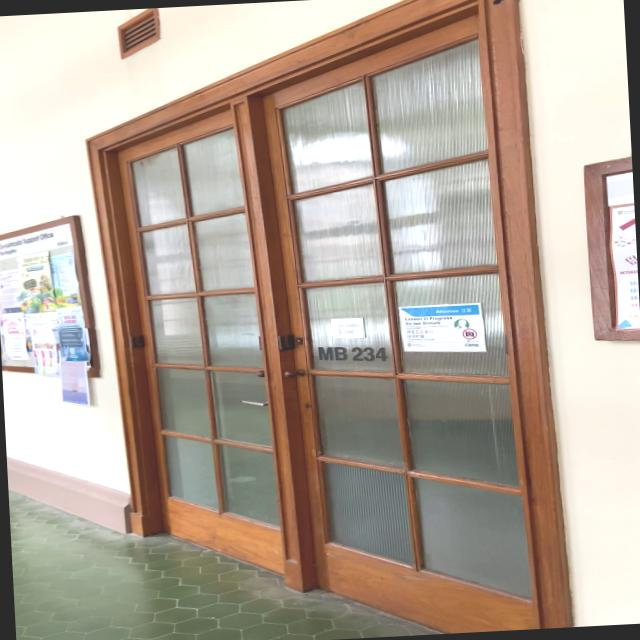room234Window: (312, 338, 392, 369)
